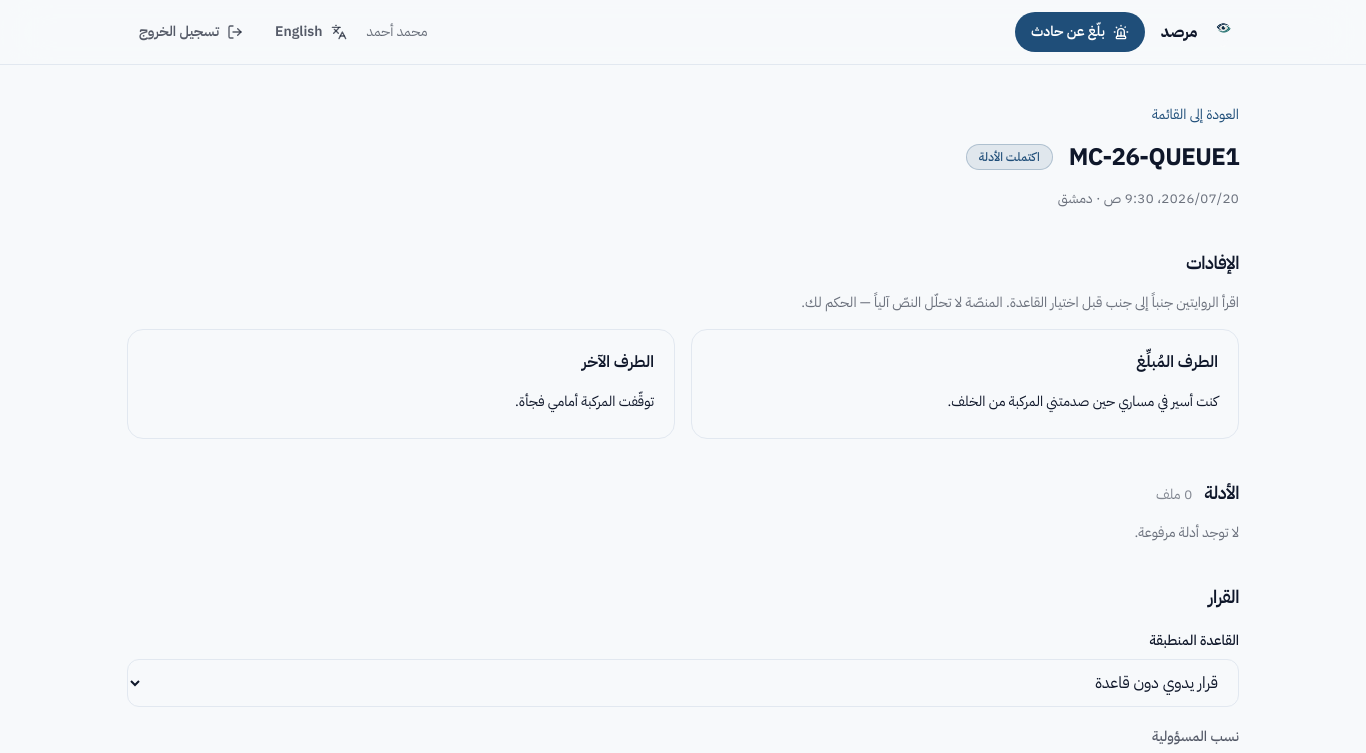
Test: review screen › blocks submission until the split totals 100
Select "REAR_END — اصطدام خلفي: المسؤولية كاملة على المركبة الخلفية." in the dropdown labelled "القاعدة المنطبقة" at (683, 683), box [127, 659, 1239, 707]
(page scrolled)
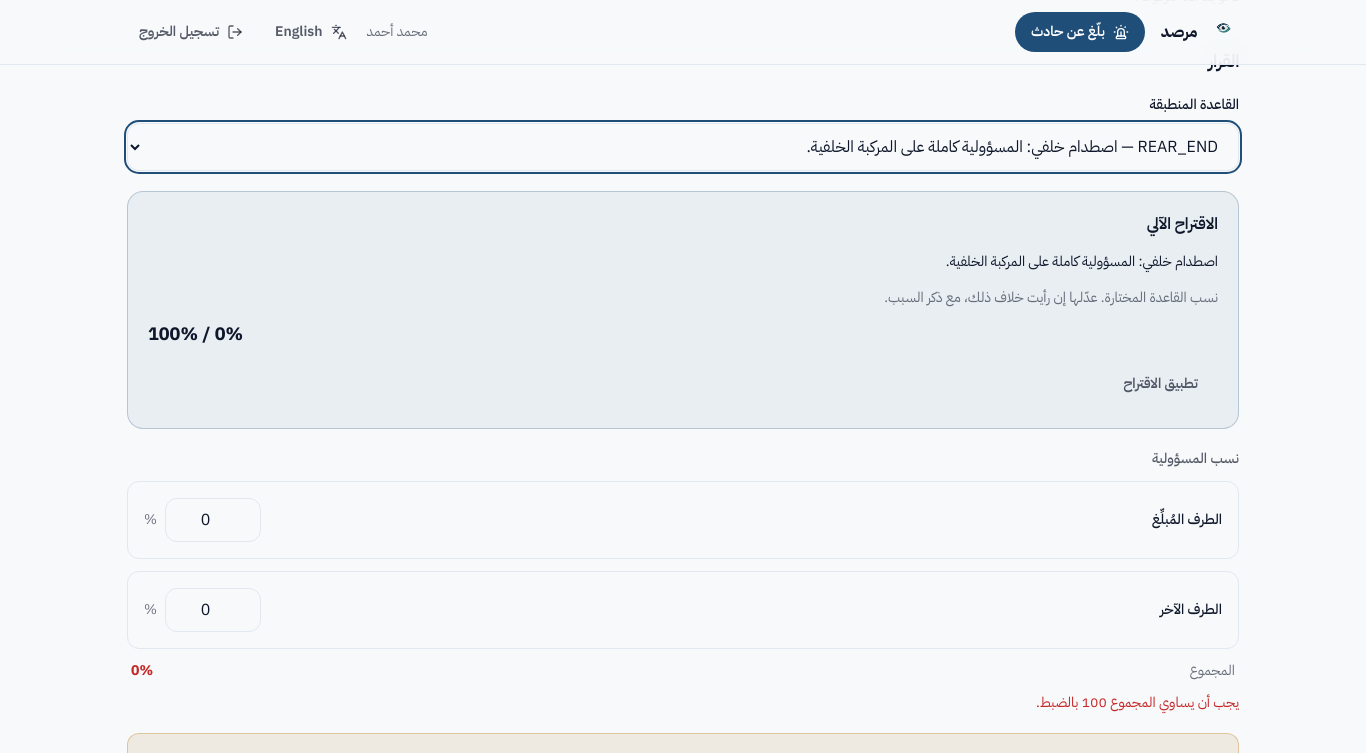
Click the button "تطبيق الاقتراح" at (1161, 384), box [1103, 360, 1218, 408]
(page scrolled)
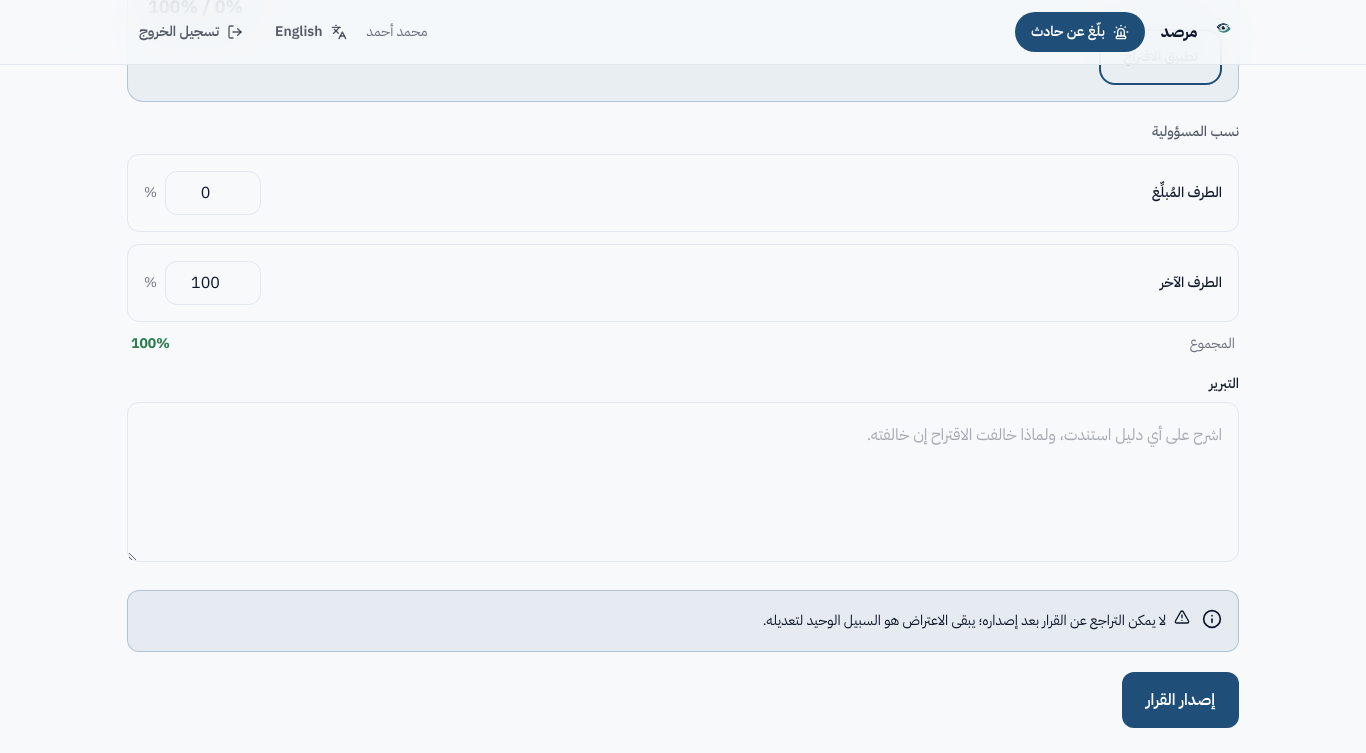
Check: the button "إصدار القرار" is enabled, box [1122, 672, 1239, 728]
